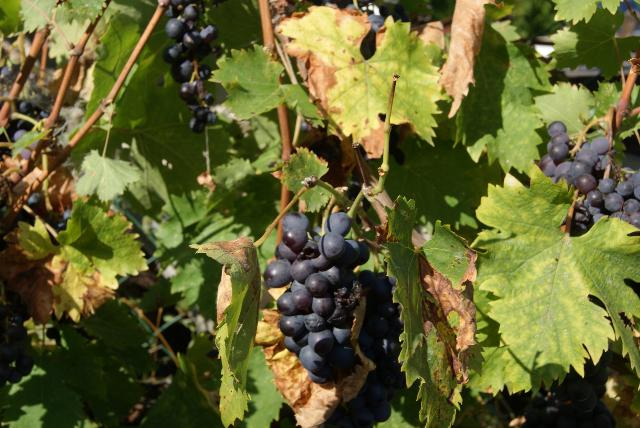grapes: (264, 212, 369, 384), (326, 270, 406, 428), (539, 121, 640, 234), (162, 0, 219, 134)
